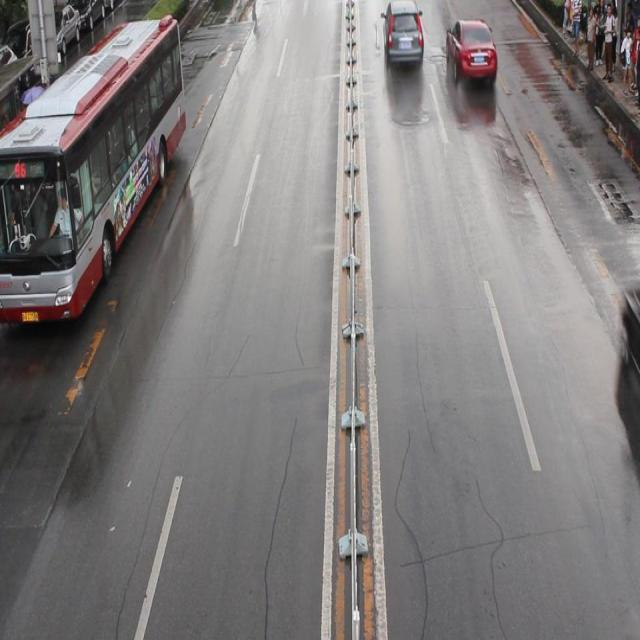car: (445, 20, 496, 80), (382, 1, 422, 62)
van: (1, 17, 186, 321)
